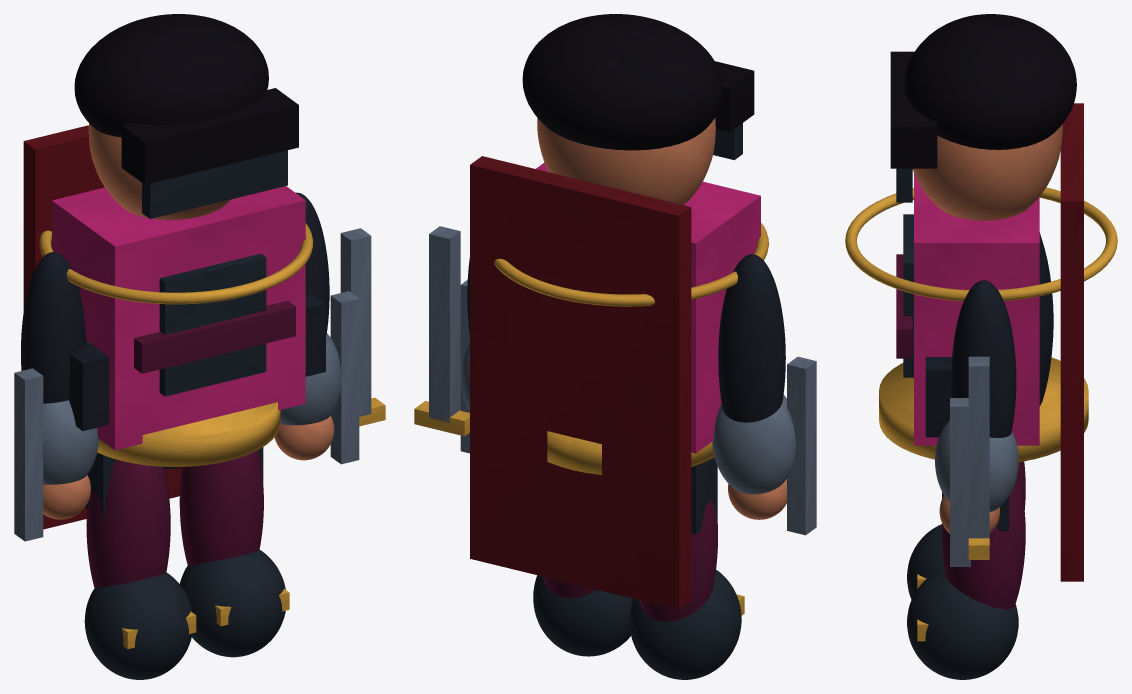
File: Foundation.glb
The picture shows the model from 3 angles, left to right: view 1: azimuth 30°, elevation 25°; view 2: azimuth 150°, elevation 25°; view 3: azimuth 270°, elevation 25°; orthographic projection. The views are drawn at different scales.
Parts seen in each view (by area): view 1: ChestPlate, Hair, HairFringe, Leg, Boot, Boot.001, ChestInset, Leg.001, Cape, Arm, WaistGuard, TacticalHarness (+14 smaller); view 2: Cape, Hair, ChestPlate, Arm, Head, Boot, Dagger, Gauntlet, Boot.001, DualDagger, ShoulderCrest, Leg (+8 smaller); view 3: Hair, ChestPlate, Cape, Head, Boot.001, Arm.001, WaistGuard, Leg.001, ShoulderCrest, Dagger, HairFringe, DualDagger.001 (+9 smaller).
Part boxes in pixels (x1=…): ChestPlate: x1=52, y1=186, x2=305, y2=450; Hair: x1=74, y1=14, x2=268, y2=137; HairFringe: x1=121, y1=88, x2=298, y2=184; Leg: x1=86, y1=459, x2=170, y2=588; Boot: x1=84, y1=572, x2=192, y2=679; Boot.001: x1=180, y1=550, x2=285, y2=657; ChestInset: x1=159, y1=253, x2=266, y2=396; Leg.001: x1=179, y1=450, x2=263, y2=565; Cape: x1=23, y1=125, x2=181, y2=529; Arm: x1=21, y1=252, x2=86, y2=403; WaistGuard: x1=97, y1=402, x2=280, y2=466; TacticalHarness: x1=134, y1=300, x2=295, y2=373; Cape: x1=470, y1=156, x2=691, y2=609; Hair: x1=522, y1=14, x2=722, y2=150; ChestPlate: x1=536, y1=162, x2=760, y2=453; Arm: x1=718, y1=254, x2=785, y2=422; Head: x1=537, y1=117, x2=715, y2=204; Boot: x1=629, y1=569, x2=741, y2=679; Dagger: x1=429, y1=226, x2=460, y2=422; Gauntlet: x1=712, y1=395, x2=795, y2=494; Boot.001: x1=533, y1=575, x2=633, y2=656; DualDagger: x1=787, y1=356, x2=816, y2=535; ShoulderCrest: x1=494, y1=222, x2=768, y2=306; Leg: x1=639, y1=501, x2=717, y2=621; Hair: x1=904, y1=14, x2=1076, y2=149; ChestPlate: x1=914, y1=173, x2=1039, y2=445; Cape: x1=1060, y1=103, x2=1083, y2=581; Head: x1=912, y1=124, x2=1062, y2=220; Boot.001: x1=907, y1=568, x2=1018, y2=679; Arm.001: x1=951, y1=280, x2=1016, y2=438; WaistGuard: x1=879, y1=357, x2=1088, y2=461; Leg.001: x1=942, y1=472, x2=1025, y2=609; ShoulderCrest: x1=845, y1=187, x2=1117, y2=301; Dagger: x1=968, y1=356, x2=989, y2=538; HairFringe: x1=890, y1=51, x2=937, y2=168; DualDagger.001: x1=950, y1=398, x2=970, y2=566.
Size of the model in its own units: 1.82 by 2.96 by 1.17.
Materials: 11 (9 with a texture image).
